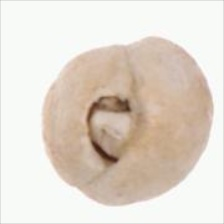L3: (82, 91, 142, 172)
L4: (41, 36, 215, 207)
